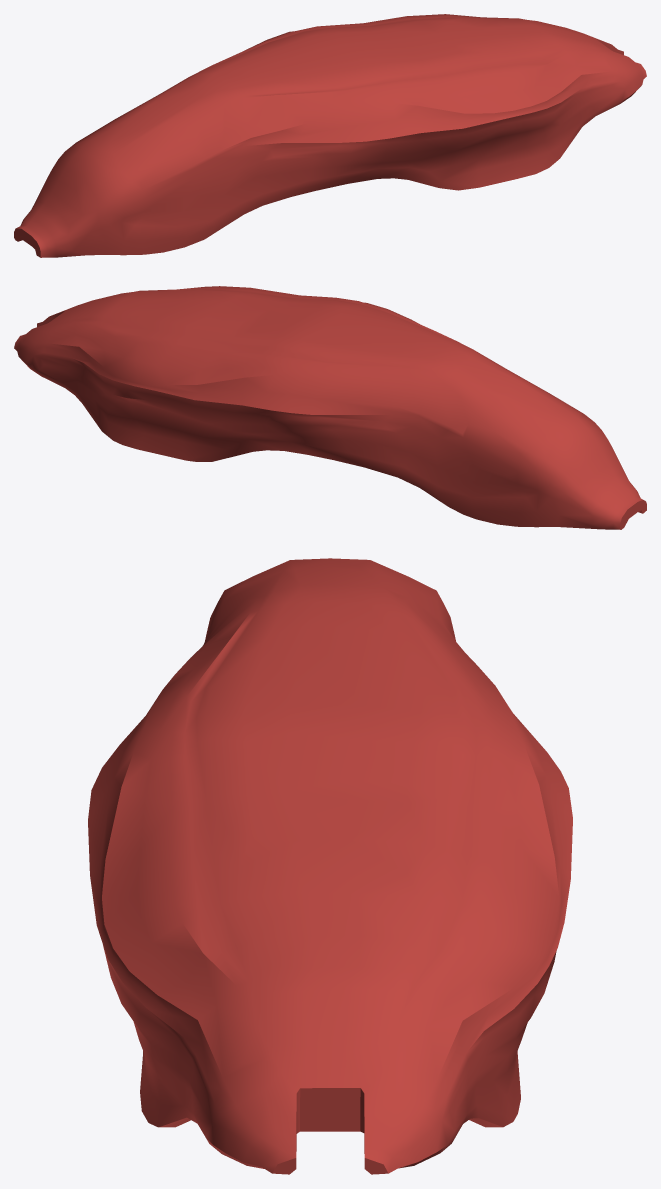
Rendered from wedge_lod2.glb.
The picture shows the model from 3 angles, top to bottom: view 1: azimuth 30°, elevation 25°; view 2: azimuth 150°, elevation 25°; view 3: azimuth 270°, elevation 25°; orthographic projection. The views are drawn at different scales.
Visible parts, largest first — view 1: wedge_lod2; view 2: wedge_lod2; view 3: wedge_lod2.
Part boxes in pixels (bbox=[...]): wedge_lod2: bbox=[14, 14, 646, 257]; wedge_lod2: bbox=[14, 286, 646, 529]; wedge_lod2: bbox=[88, 558, 572, 1174].
Bounding box in the file's own units: 1.07 × 0.2179 × 0.3699.
